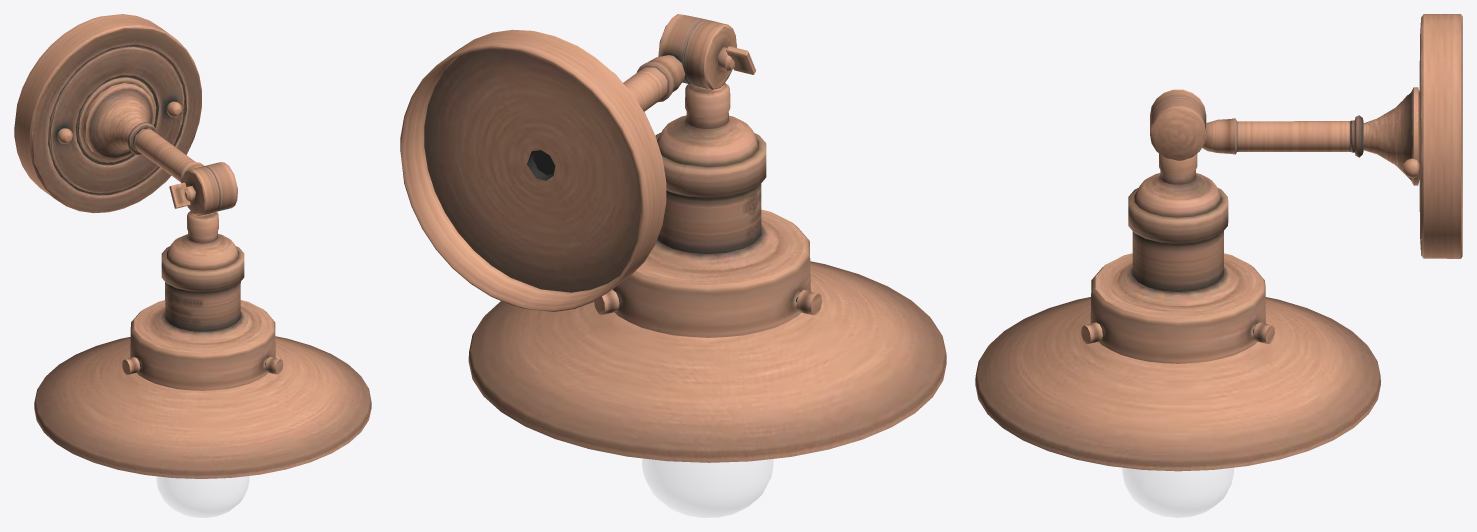
File: AnisotropyBarnLamp.glb
3 views of the same model, side by side, from view 1: azimuth 30°, elevation 25°; view 2: azimuth 150°, elevation 25°; view 3: azimuth 270°, elevation 25° (orthographic). The views are drawn at different scales.
Parts seen in each view (by area): view 1: Lamp Metal, Lamp Glass; view 2: Lamp Metal, Lamp Glass; view 3: Lamp Metal, Lamp Glass.
Boxes of the visible parts, x1,y1,x2,y2 form: Lamp Metal: (14, 14, 371, 478); Lamp Glass: (157, 476, 249, 517); Lamp Metal: (400, 14, 946, 462); Lamp Glass: (642, 459, 773, 517); Lamp Metal: (975, 14, 1462, 471); Lamp Glass: (1122, 468, 1233, 517).
Size of the model in its own units: 0.1908 by 0.2552 by 0.2265.
3 materials, 1 textured.
